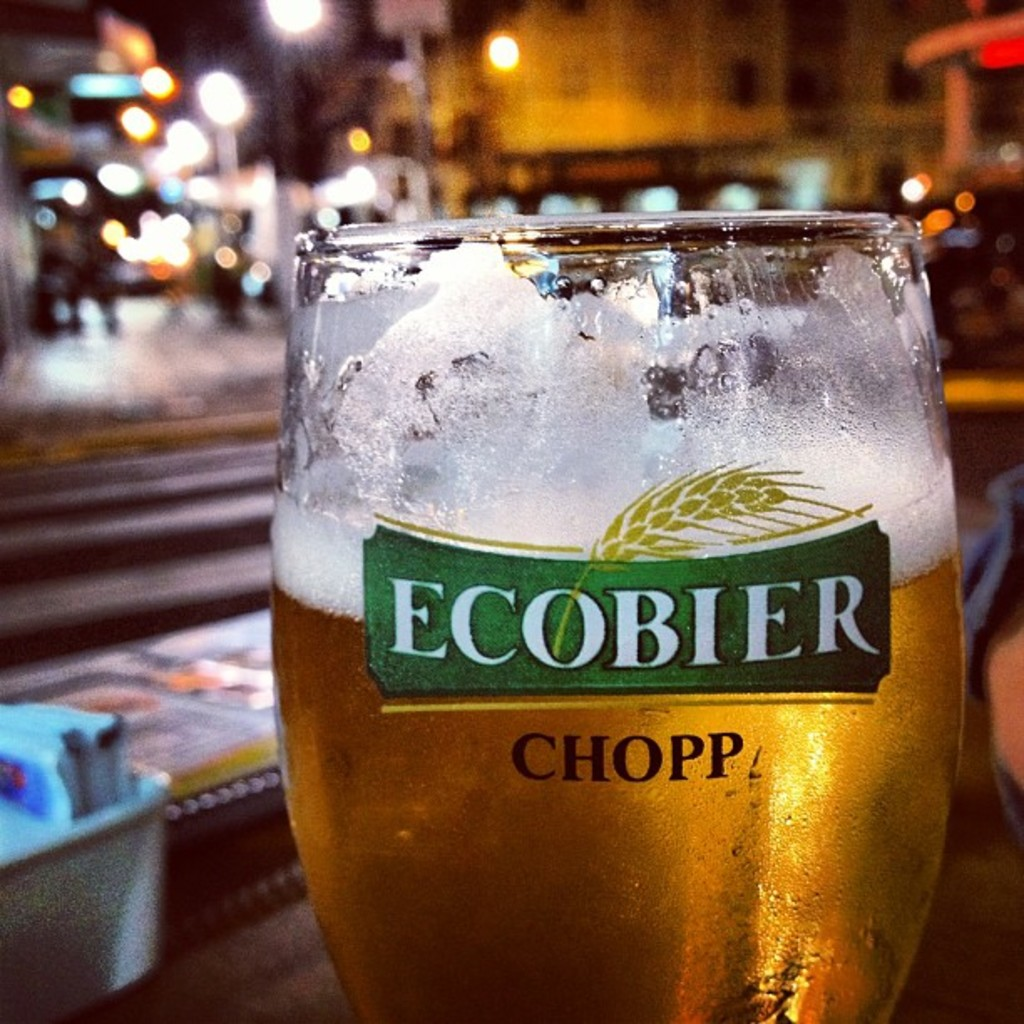Beer: (267, 431, 965, 1022)
